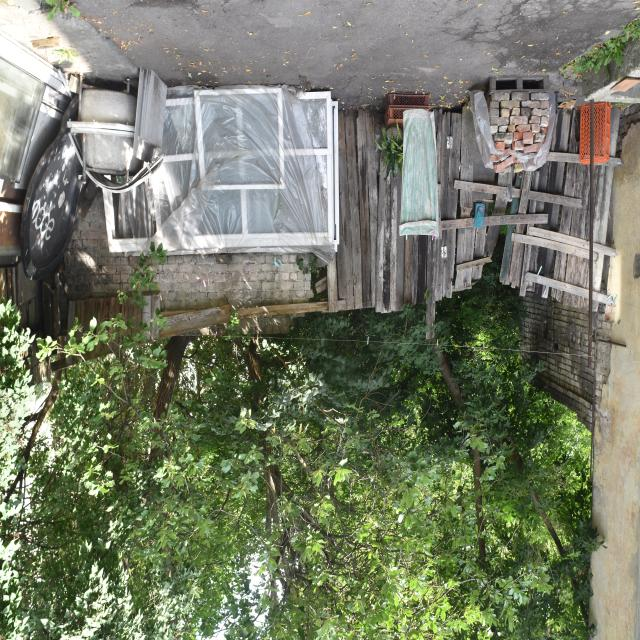entulho: (71, 65, 348, 268), (0, 31, 89, 282), (474, 71, 558, 177)
lixo domiciliar: (579, 100, 613, 170), (610, 73, 640, 94)
